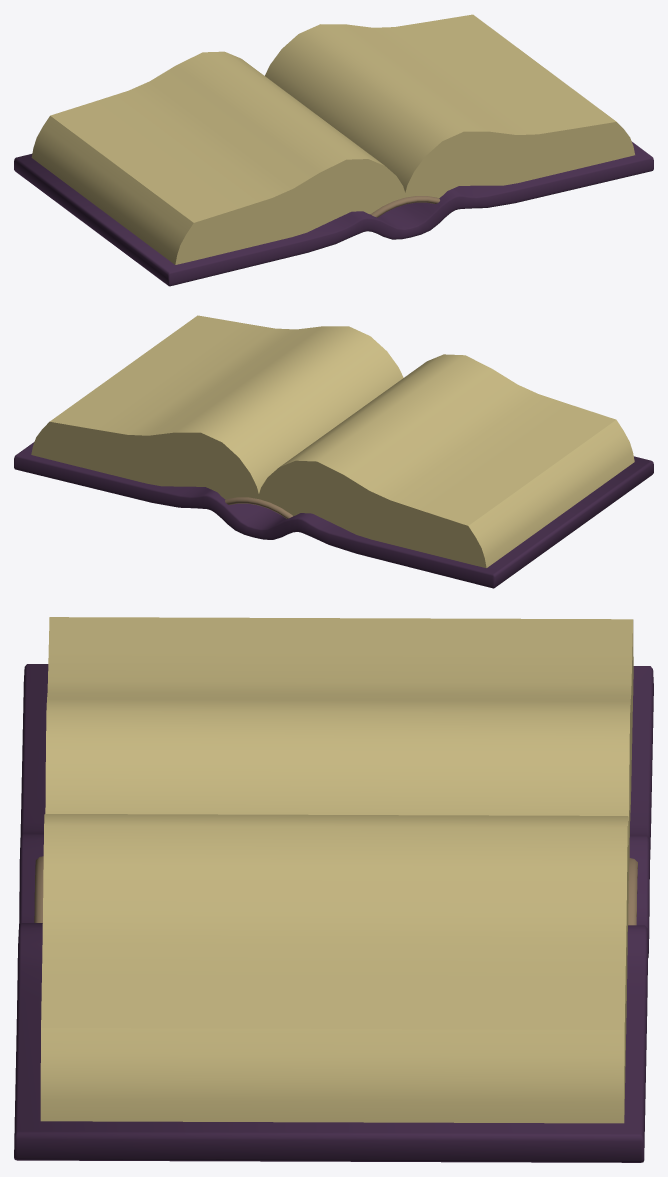
The model's file is Books_MAX2010.fbx.
3 renders of one model, top to bottom at view 1: azimuth 30°, elevation 25°; view 2: azimuth 150°, elevation 25°; view 3: azimuth 270°, elevation 25°, orthographic. The views are drawn at different scales.
Visible parts, largest first — view 1: Box79, Box78, Torus19; view 2: Box79, Box78, Torus20; view 3: Box79, Box78.
Part boxes in pixels (x1,y1,x2,y2): Box79: (31,14,634,264); Box78: (14,142,653,286); Torus19: (371,196,439,217); Box79: (31,315,634,568); Box78: (14,442,653,588); Torus20: (225,497,292,518); Box79: (40,617,633,1123); Box78: (14,664,653,1162).
Bounding box in the file's own units: 14.65 × 8.36 × 2.52.
